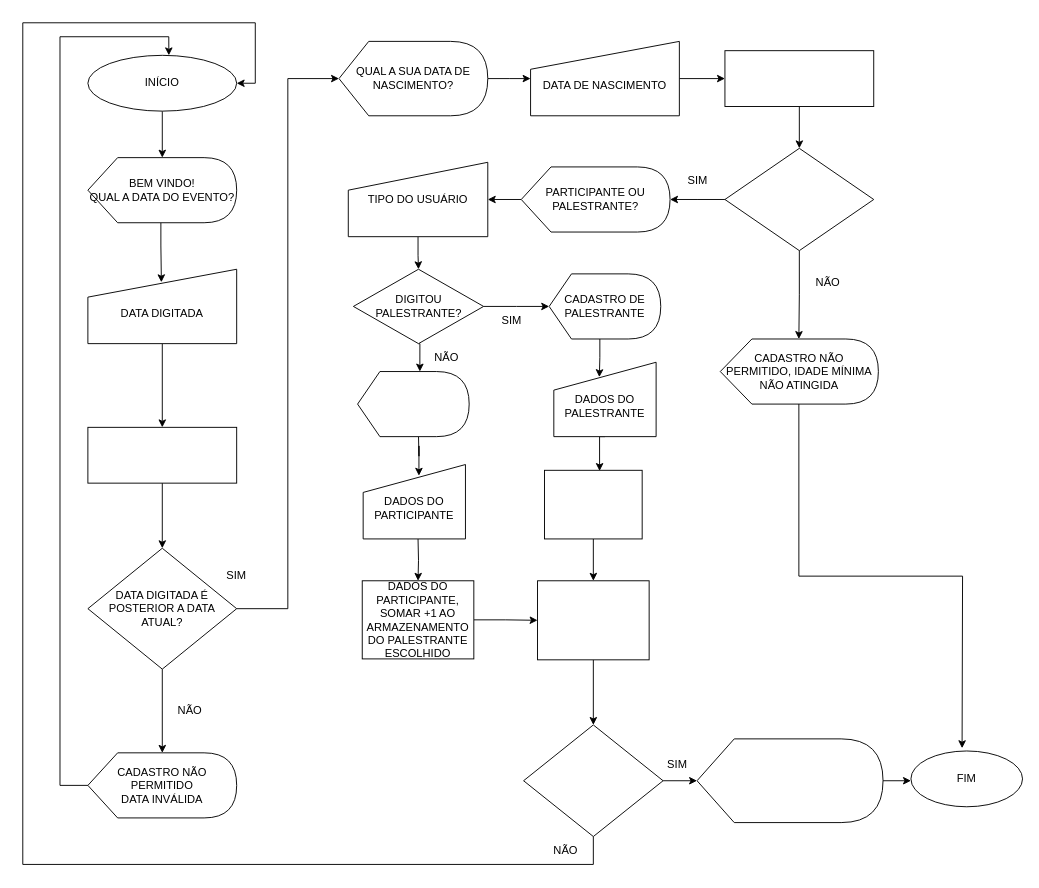
Image size: 1039x888. Some labels were removed from this diagram. The centre of each missing label's shape, as x and y in pixels:
"CADASTRO DE PARTICIPANTE" belongs at (x=413, y=404).
"CADASTRO DO PALESTRANTE, ARMAZENAR 100 PARTICIPANTES" belongs at (x=593, y=504).
"CADASTRO NÃO PERMITIDO, LIMITE DE PARTICIPANTES EXCEDIDO" belongs at (x=789, y=780).
"COMPARAR DATA ATUAL COM A DATA DE NASCIMENTO" belongs at (x=799, y=78).
"COMPARAR DATA ATUAL COM A DATA DIGITADA" belongs at (x=162, y=454).
"HÁ MAIS DE 100 PARTICIPANTES POR PALESTRANTE?" belongs at (x=593, y=780).
"ORGANIZAR OS DADOS E VERIFICAR SE HÁ MAIS DE 100 PARTICIPANTES POR PALESTRANTE" belongs at (x=593, y=620).
"USUÁRIO MAIOR DE 18 ANOS?" belongs at (x=799, y=199).
